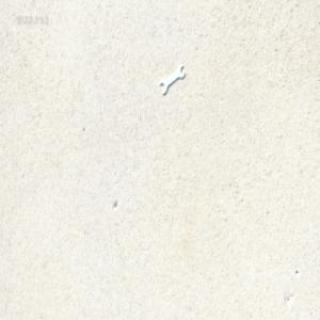Wrenchtrack_idkeyframe: (158, 62, 184, 94)
